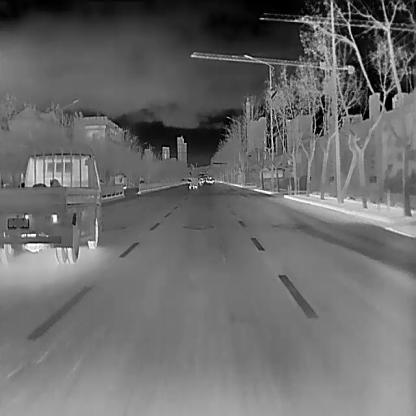car: (0, 146, 109, 264), (259, 167, 298, 190), (188, 176, 198, 190), (205, 176, 216, 185), (198, 176, 204, 186), (138, 177, 143, 185)
